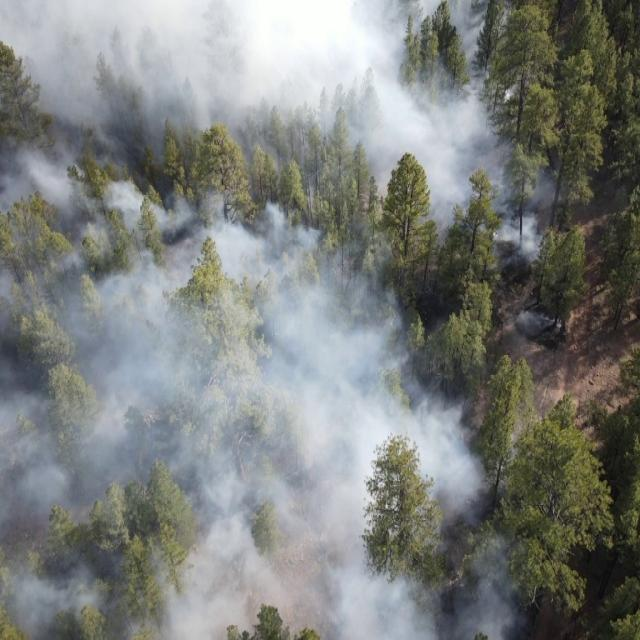smoke: (0, 389, 516, 640), (0, 91, 561, 259), (0, 259, 415, 389), (0, 0, 511, 91), (515, 311, 561, 344)
